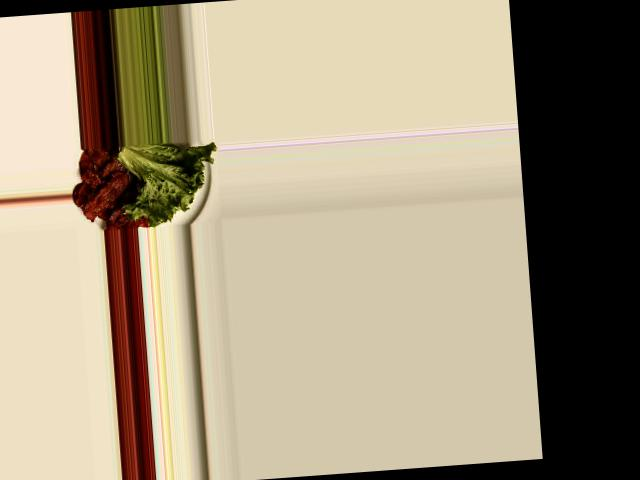lettuce: (117, 138, 216, 226)
